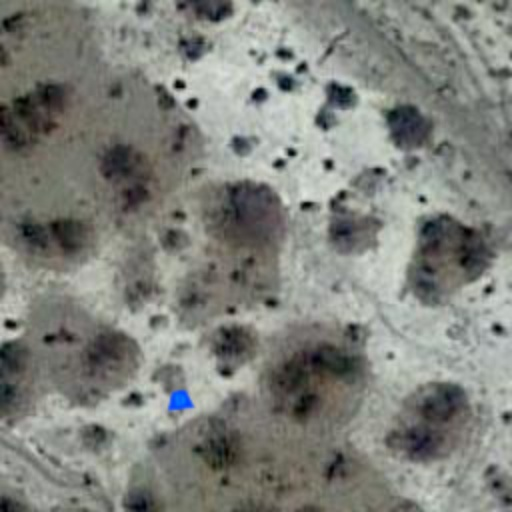trapezoid: (164, 384, 196, 416)
